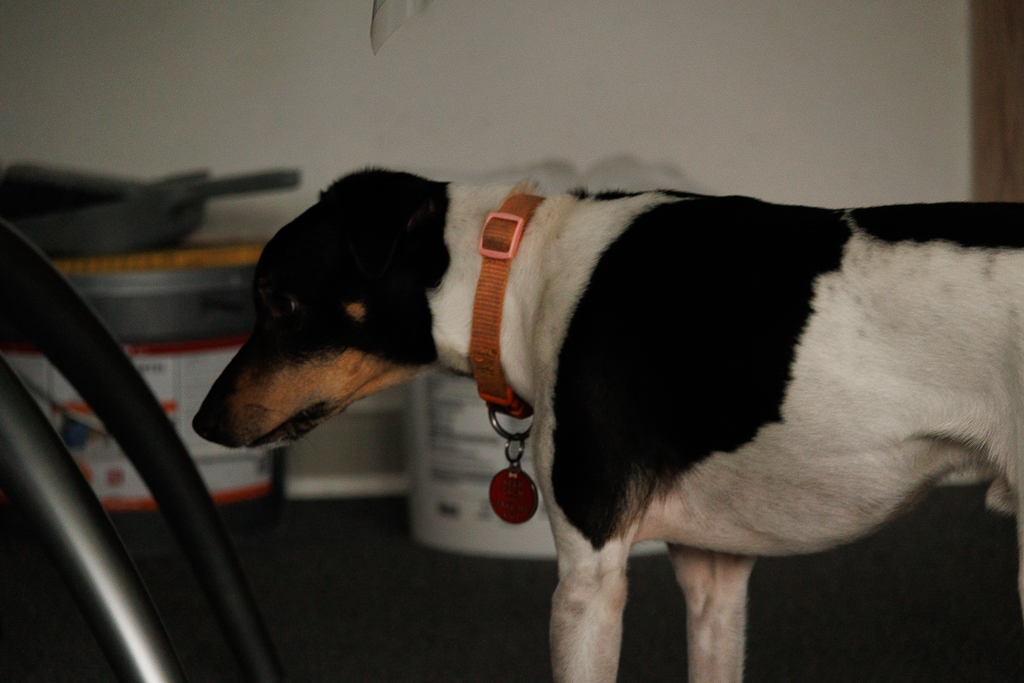Dog: (181, 151, 1024, 683)
